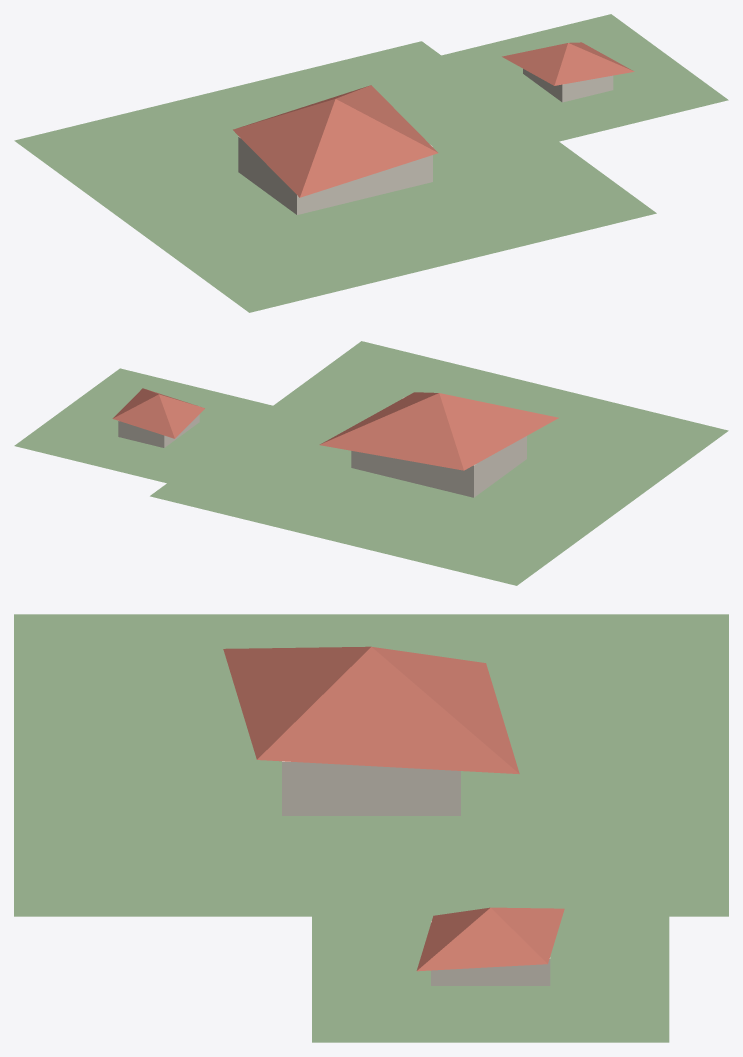
Rendered from rendertaxi-export.glb.
3 views of the same model, one above another, from view 1: azimuth 30°, elevation 25°; view 2: azimuth 150°, elevation 25°; view 3: azimuth 270°, elevation 25° (orthographic). The views are drawn at different scales.
Parts seen in each view (by area): view 1: Boden, Boden.001, Dach, Haus.001, Dach.001, Haus.002; view 2: Boden, Boden.001, Dach, Haus.001, Dach.001, Haus.002; view 3: Boden, Boden.001, Dach, Haus.001, Dach.001, Haus.002.
Part boxes in pixels (x1,y1,x2,y2): Boden: (14,41,656,312); Boden.001: (425,14,728,149); Dach: (233,85,438,197); Haus.001: (238,136,432,214); Dach.001: (502,42,634,85); Haus.002: (523,69,613,102); Boden: (150,341,728,585); Boden.001: (14,368,299,489); Dach: (319,392,558,470); Haus.001: (351,397,526,497); Dach.001: (112,388,204,438); Haus.002: (118,414,199,447); Boden: (14,614,728,916); Boden.001: (312,891,669,1042); Dach: (223,646,519,774); Haus.001: (282,761,460,815); Dach.001: (416,907,564,971); Haus.002: (431,921,550,985).
Bounding box in the file's own units: 17 × 2.2 × 12.
